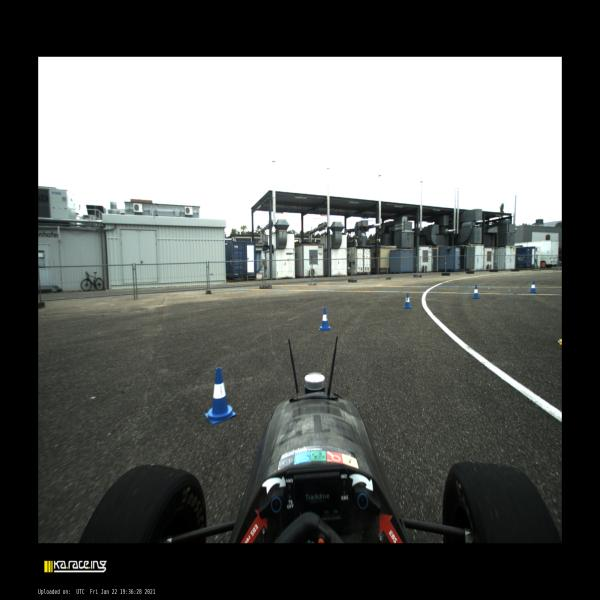blue_cone: (205, 368, 236, 424), (319, 308, 331, 331), (403, 292, 412, 308), (472, 285, 480, 299), (529, 281, 537, 293)
